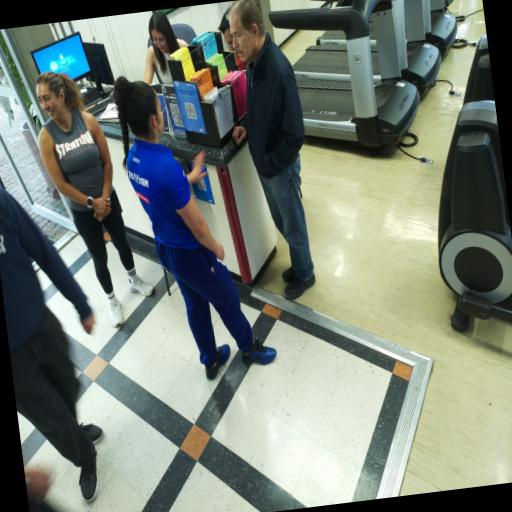person: (113, 77, 276, 379), (0, 188, 103, 501), (37, 72, 154, 327), (230, 0, 315, 299), (143, 12, 188, 84), (25, 471, 54, 511), (219, 9, 234, 51)
